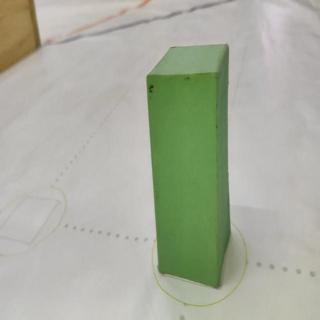greenbox: (145, 43, 231, 290)
